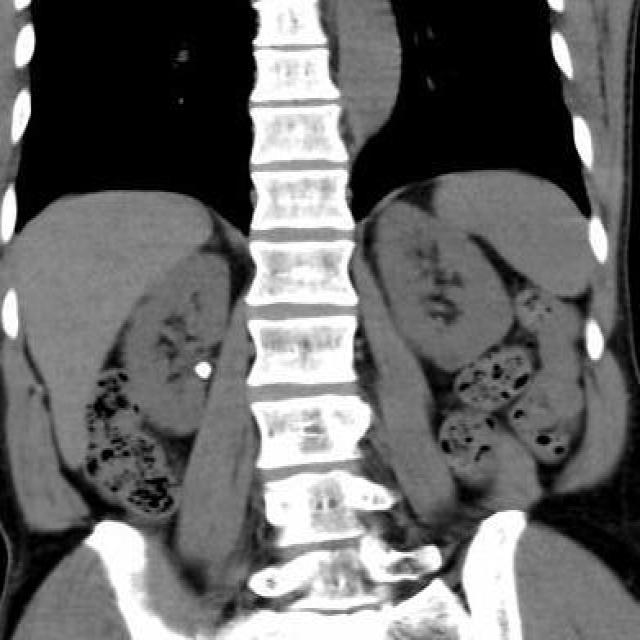Tas_Var: (191, 358, 212, 380)
